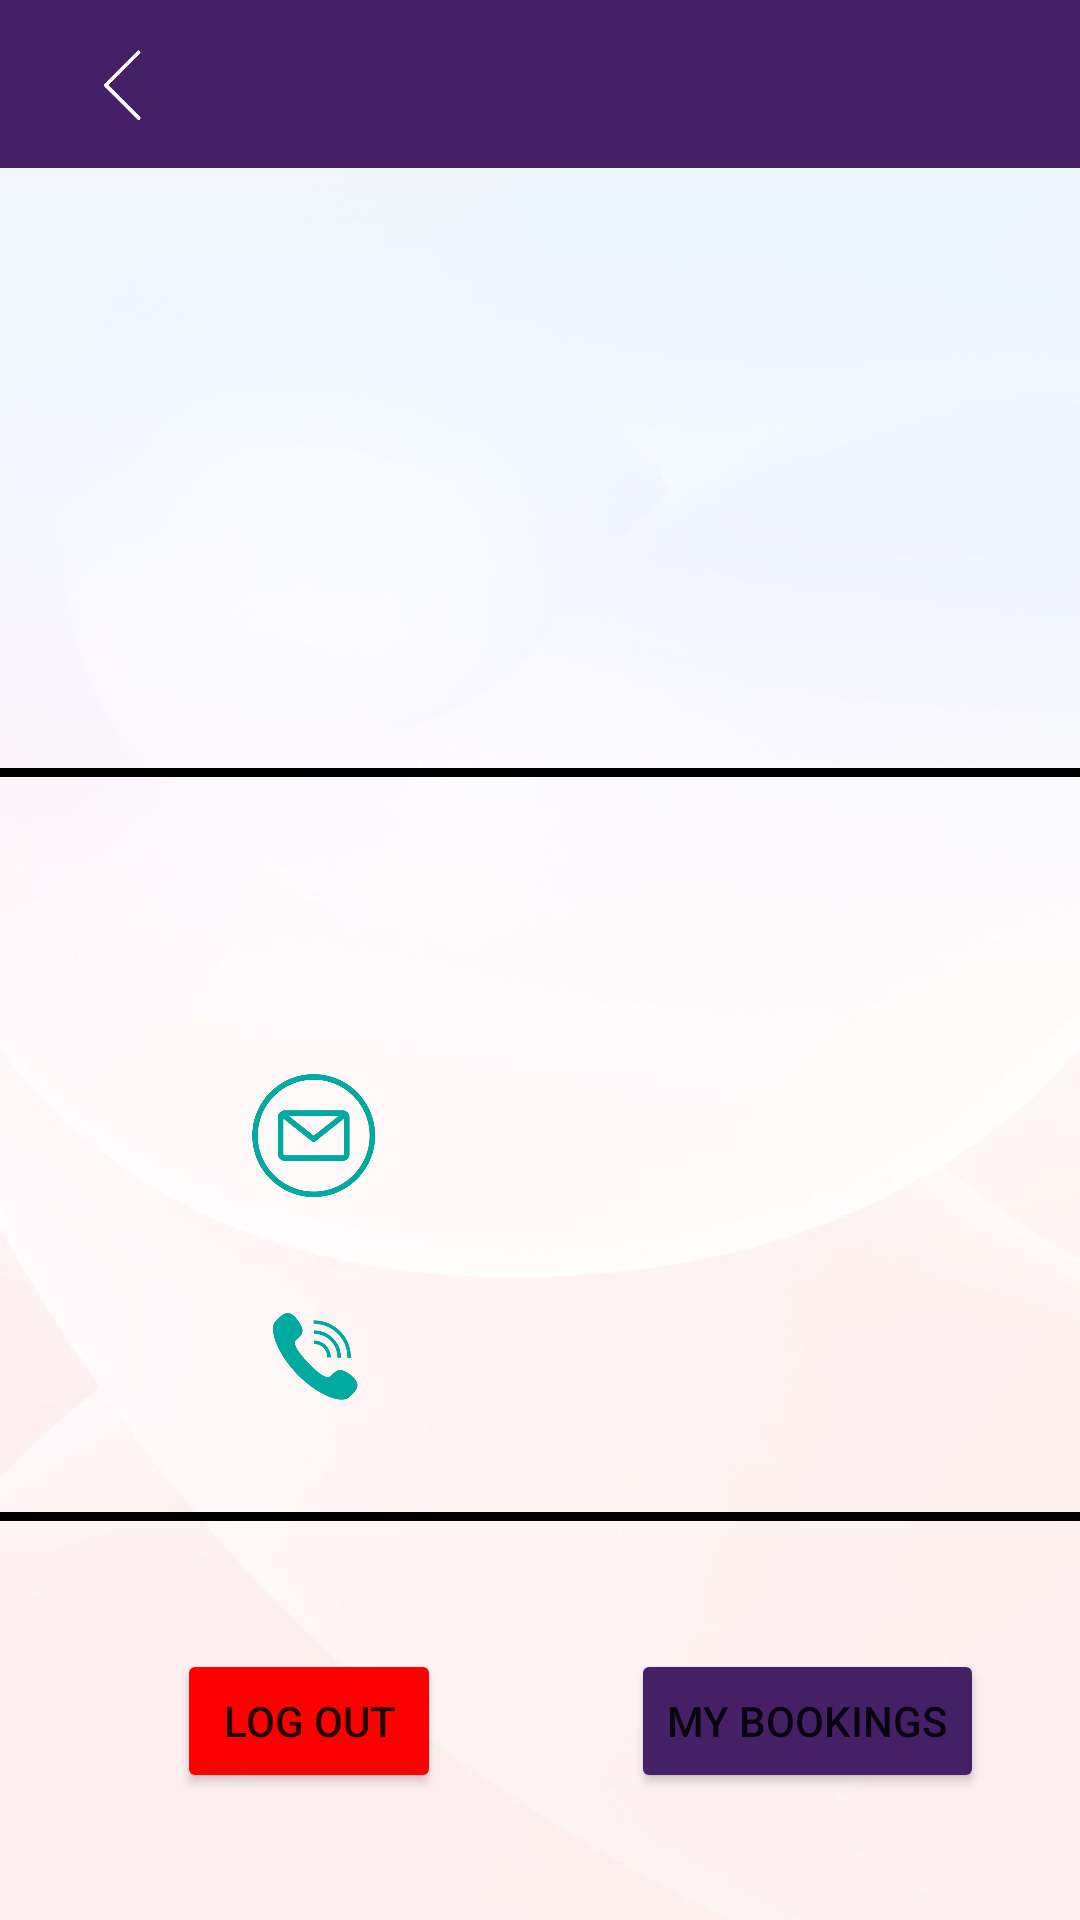

Named icons in this screenshot (1080 x 1920) and their bounding boxes, (x1, y1, x2, y2):
cliente email: (252, 1074, 375, 1197)
cliente phone: (273, 1313, 358, 1400)
flecha izquierda: (104, 50, 141, 120)
